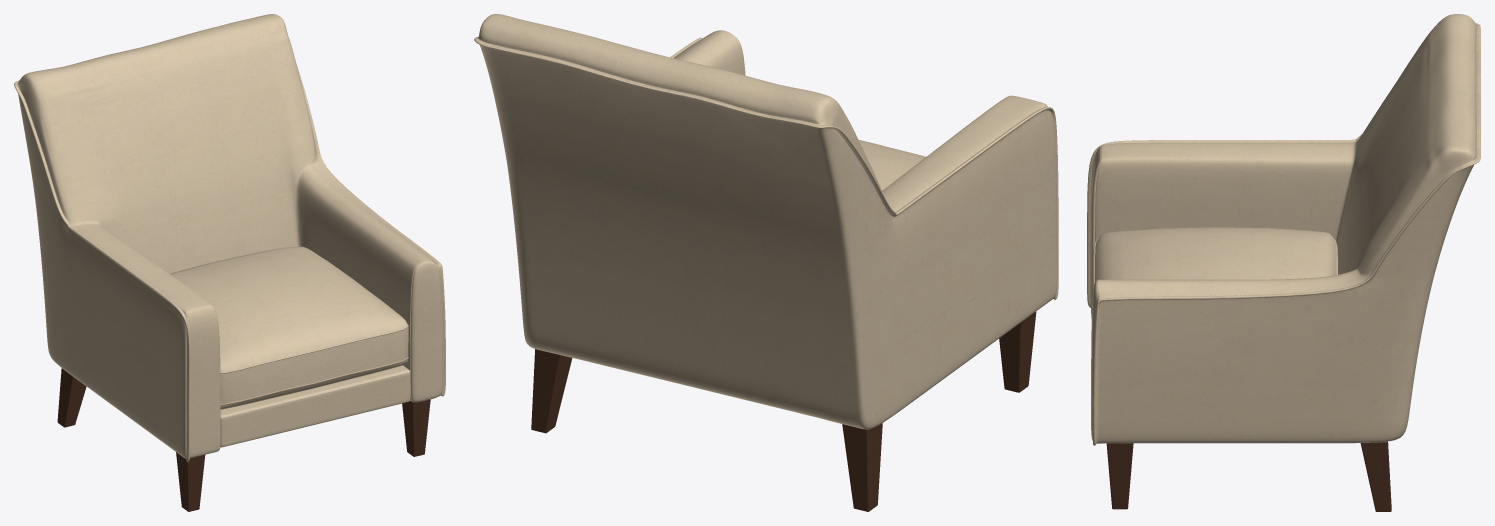
File: abo-B07BWJCZJW.glb
3 views of the same model, side by side, from view 1: azimuth 30°, elevation 25°; view 2: azimuth 150°, elevation 25°; view 3: azimuth 270°, elevation 25° (orthographic). The views are drawn at different scales.
Bounding box in the file's own units: 0.78 × 0.919 × 0.899.
Materials: 1 (1 with a texture image).
